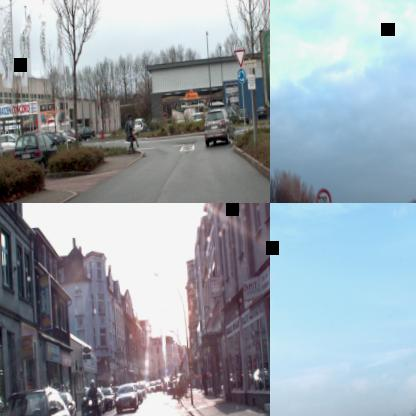give way: (232, 48, 247, 68)
roundabout: (236, 67, 246, 84)
speed limit 120: (315, 187, 332, 203)
